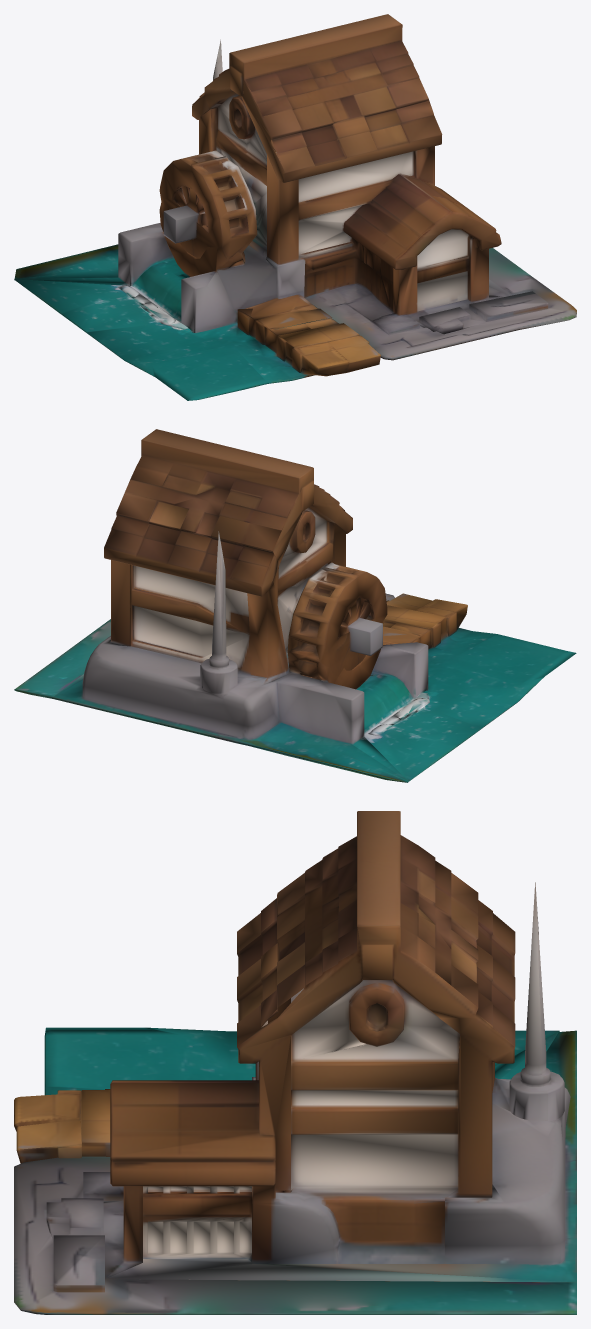
File: water_mill.fbx
3 renders of one model, top to bottom at view 1: azimuth 30°, elevation 25°; view 2: azimuth 150°, elevation 25°; view 3: azimuth 270°, elevation 25°, orthographic. The views are drawn at different scales.
Parts seen in each view (by area): view 1: texture_pbr_v128; view 2: texture_pbr_v128; view 3: texture_pbr_v128.
Part boxes in pixels (x1,y1,x2,y2): texture_pbr_v128: [14, 14, 576, 400]; texture_pbr_v128: [14, 429, 576, 782]; texture_pbr_v128: [14, 811, 576, 1314].
Bounding box in the file's own units: 190 × 108 × 158.
Materials: 1 (1 with a texture image).
